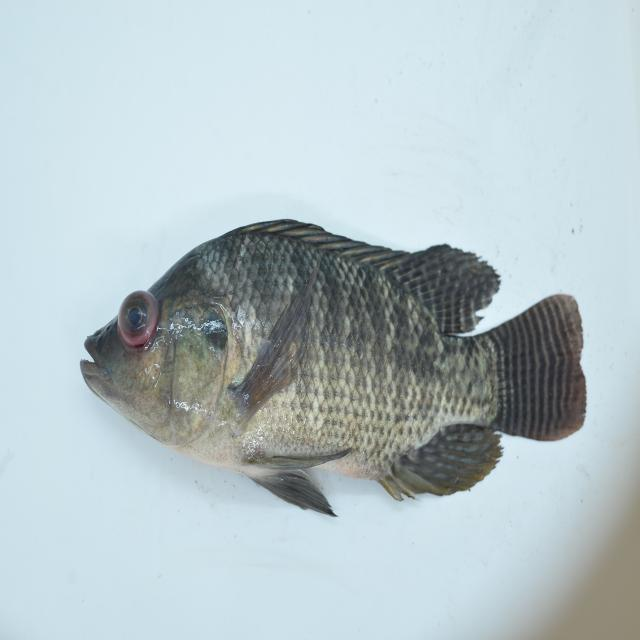streptococcus Disease: (78, 210, 589, 519)
